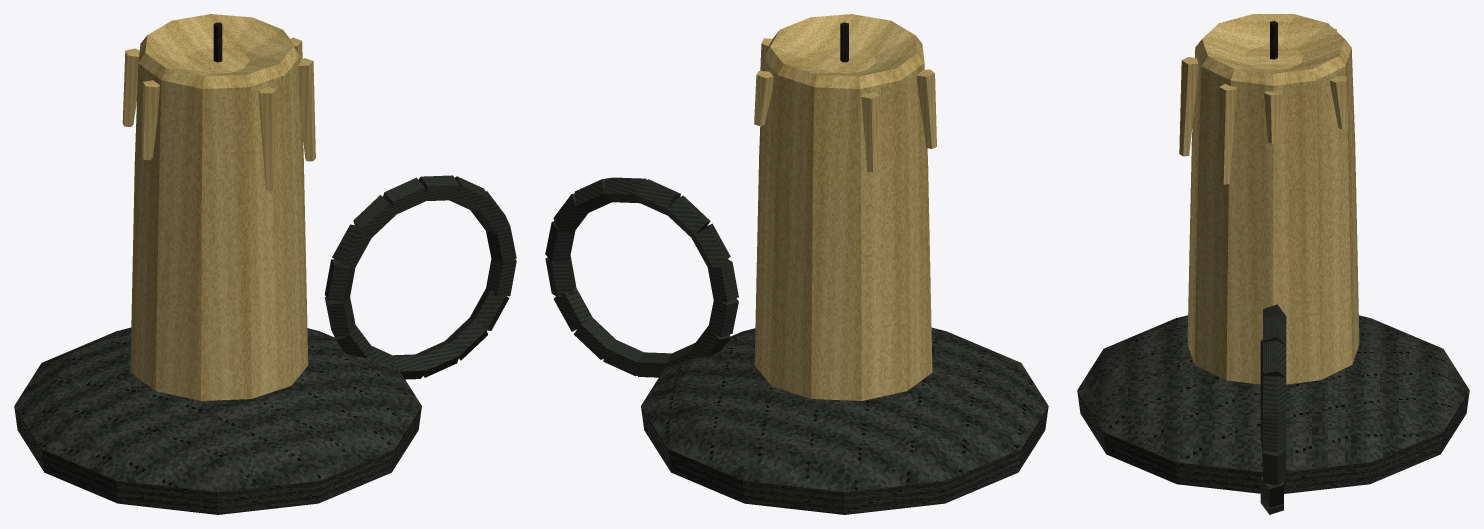
File: blender_firelight_2.glb
The picture shows the model from 3 angles, left to right: view 1: azimuth 30°, elevation 25°; view 2: azimuth 150°, elevation 25°; view 3: azimuth 270°, elevation 25°; orthographic projection. The views are drawn at different scales.
Visible parts, largest first — view 1: blender_firelight_2; view 2: blender_firelight_2; view 3: blender_firelight_2.
Part boxes in pixels (x1,y1,x2,y2): blender_firelight_2: [14, 14, 516, 514]; blender_firelight_2: [545, 14, 1048, 514]; blender_firelight_2: [1077, 14, 1469, 514].
Bounding box in the file's own units: 0.1637 × 0.14 × 0.122.
Materials: 3 (3 with a texture image).
